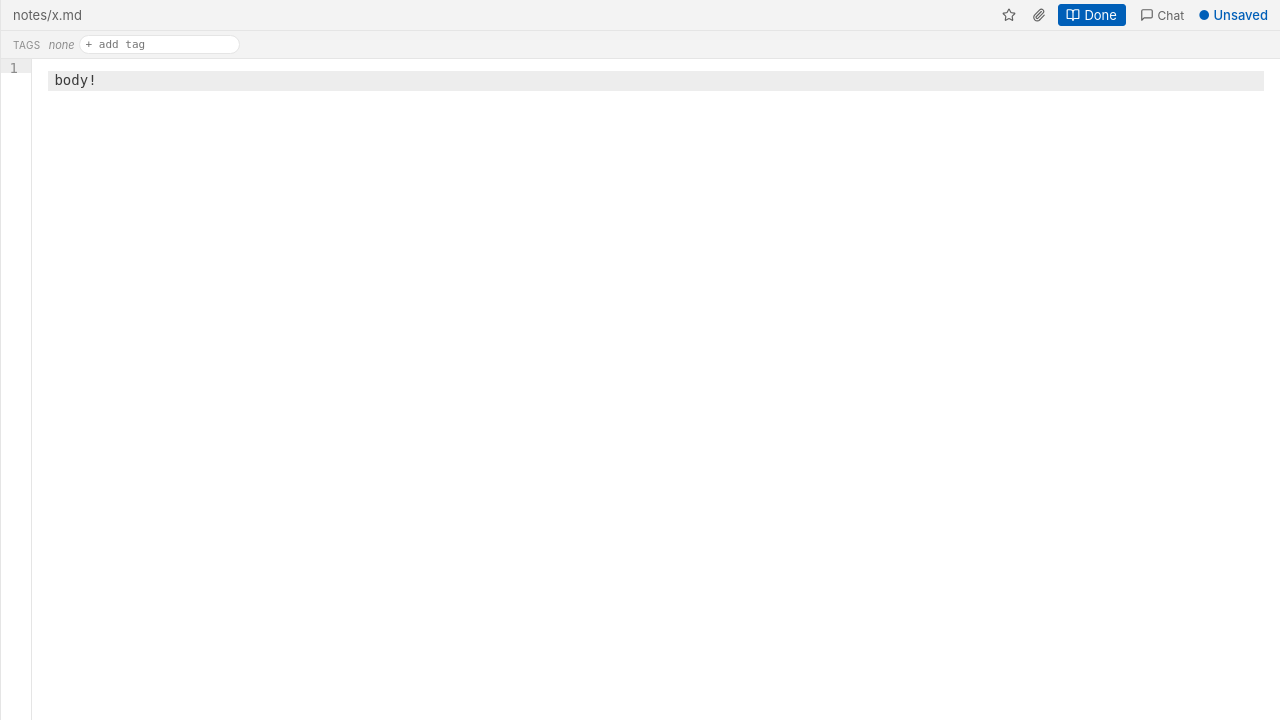
EditorPanel with a real CodeMirror view › typing mirrors into the store; the attach button inserts exactly once
Click the button with test id "editor-attach-button".
click(1039, 15)  # box [1028,4,1050,26]
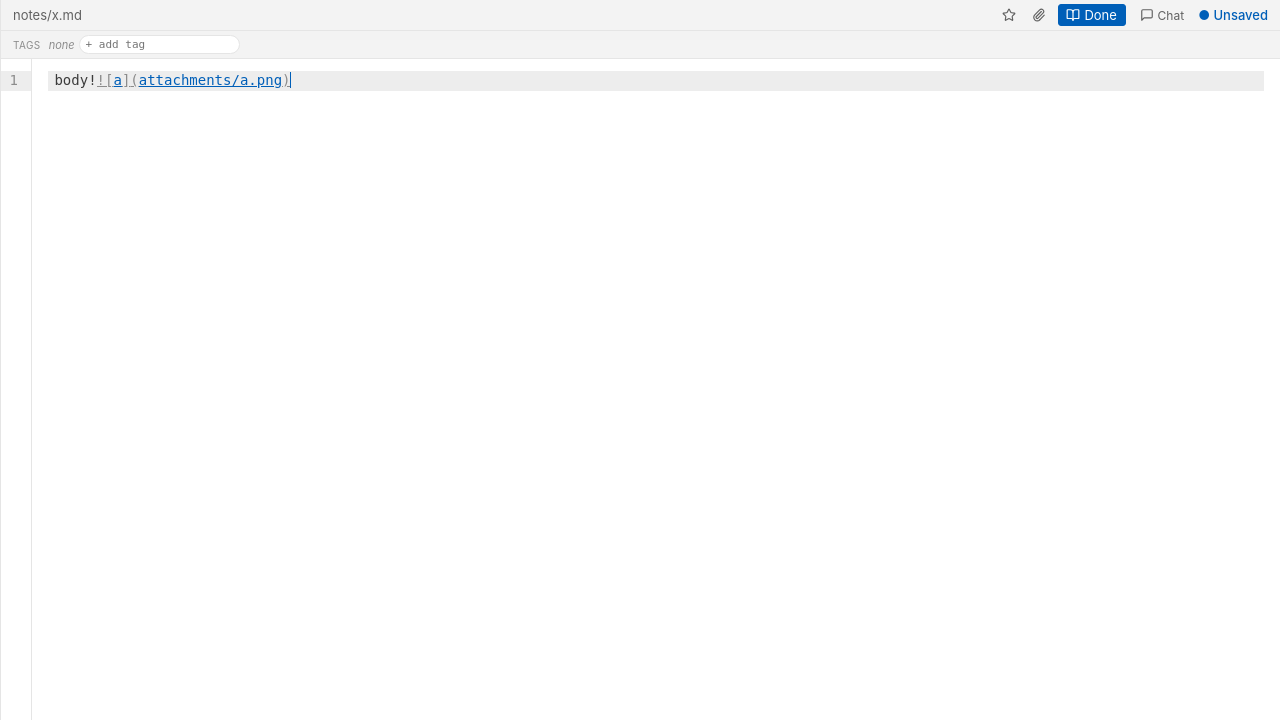
Expected: the text box labelled "body!![a](attachments/a.png)" is shown, [48,71,1264,91]
